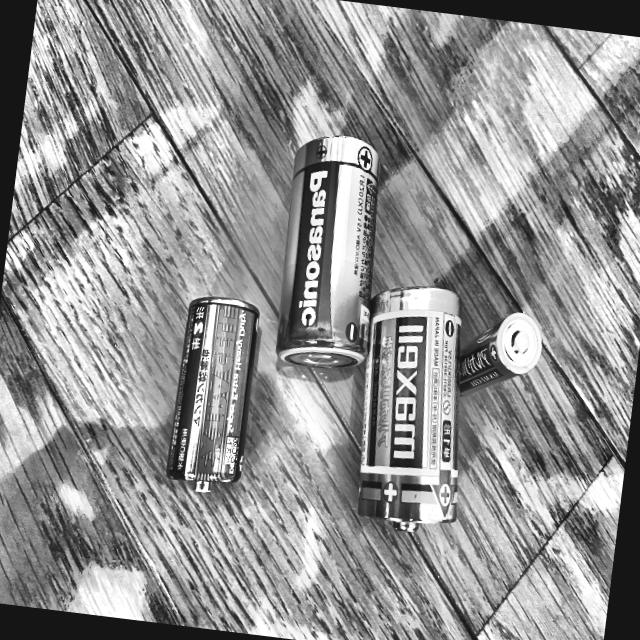drycell: (336, 272, 492, 550), (442, 297, 548, 401)
